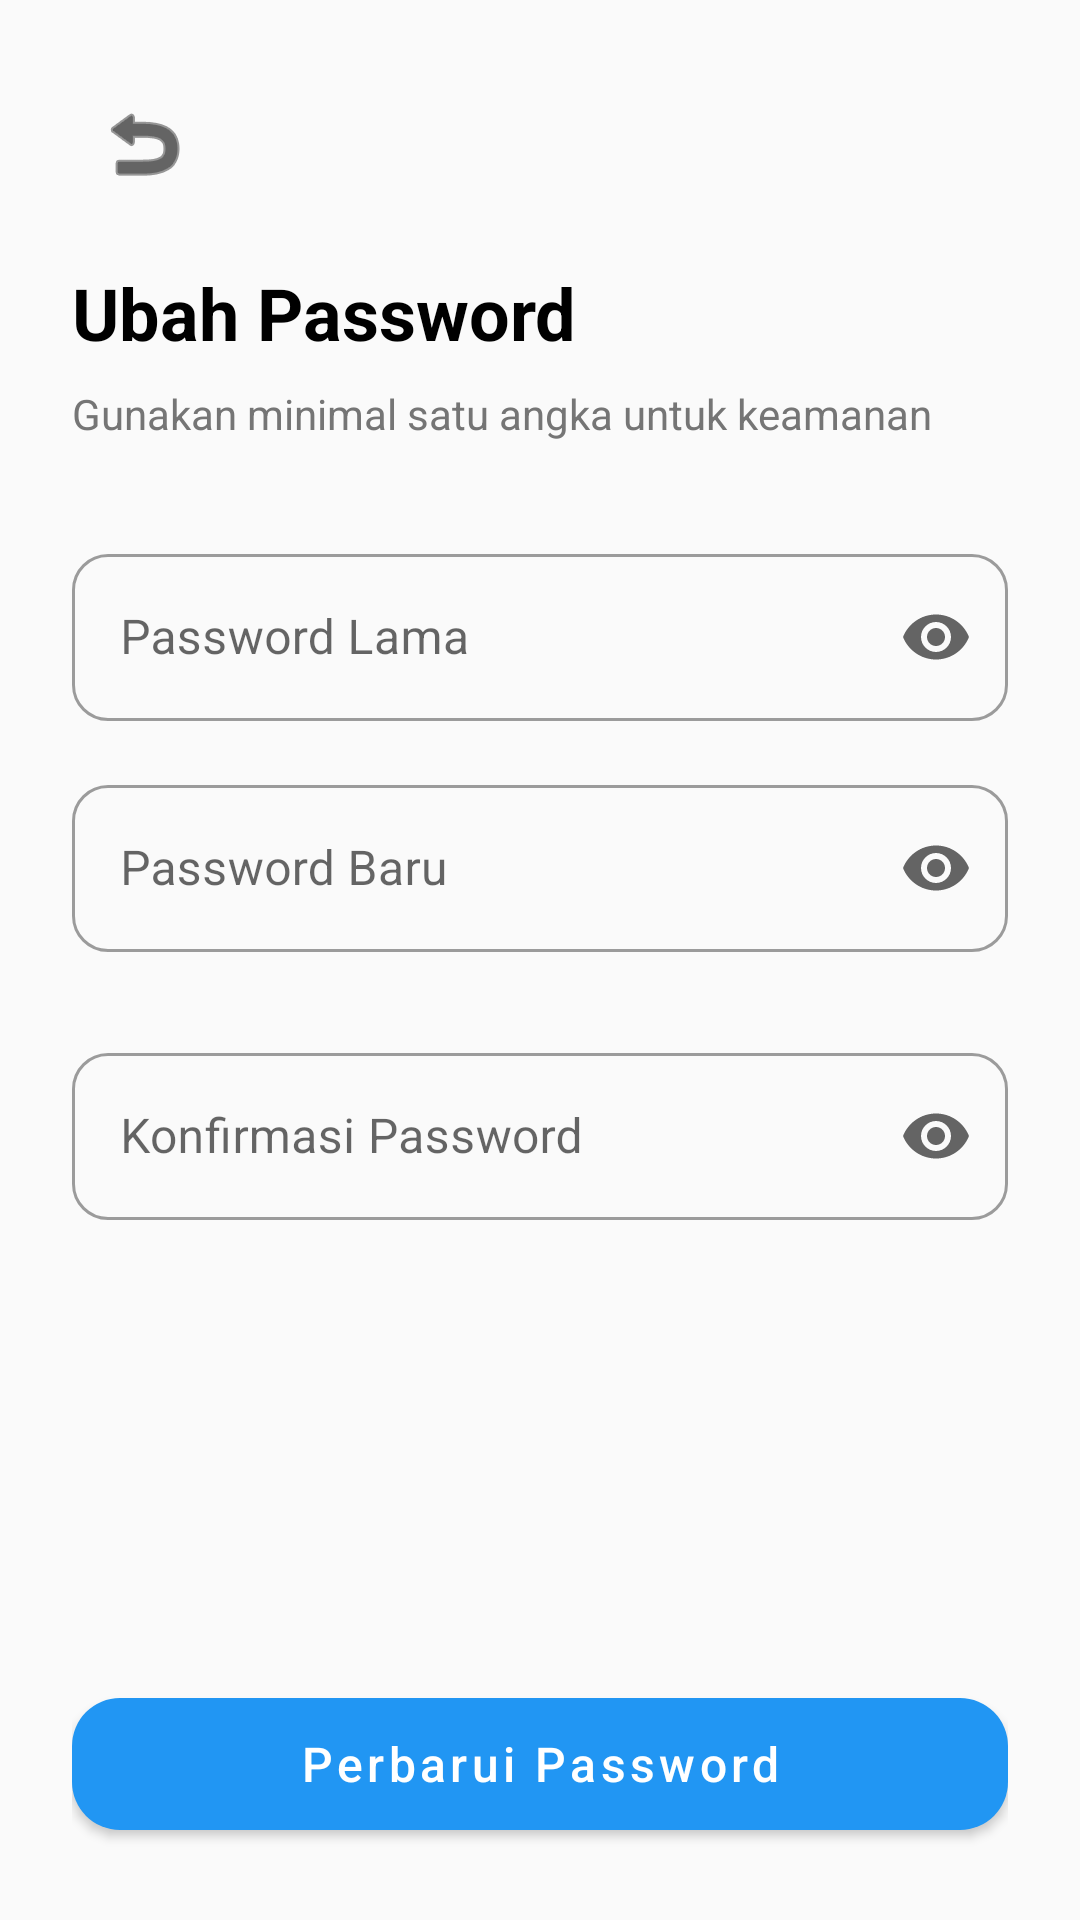

Named icons in this screenshot (1080 x 1920) and their centers, [x,y]:
revert: [145,144]
